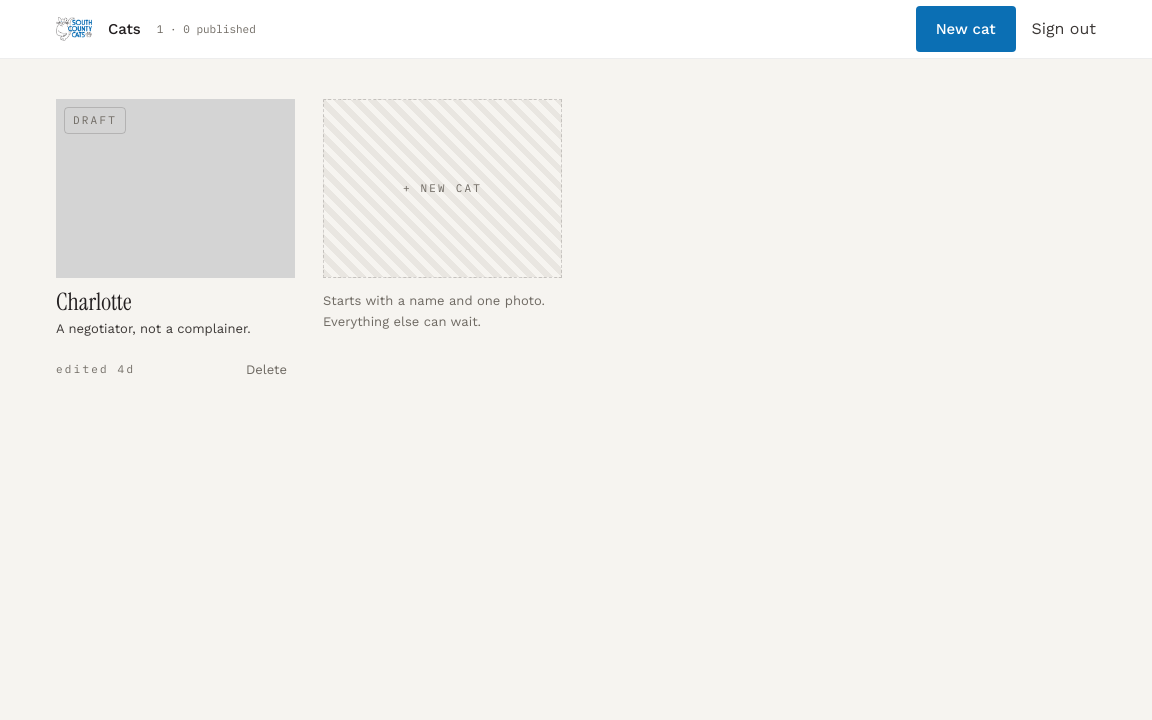
Test case: ProfileList › Delete asks first, naming the cat; Escape keeps it and returns focus
The width and height of the screenshot is (1152, 720).
Click the button with aria-label "Delete Charlotte": (266,369) [238,347,295,391]
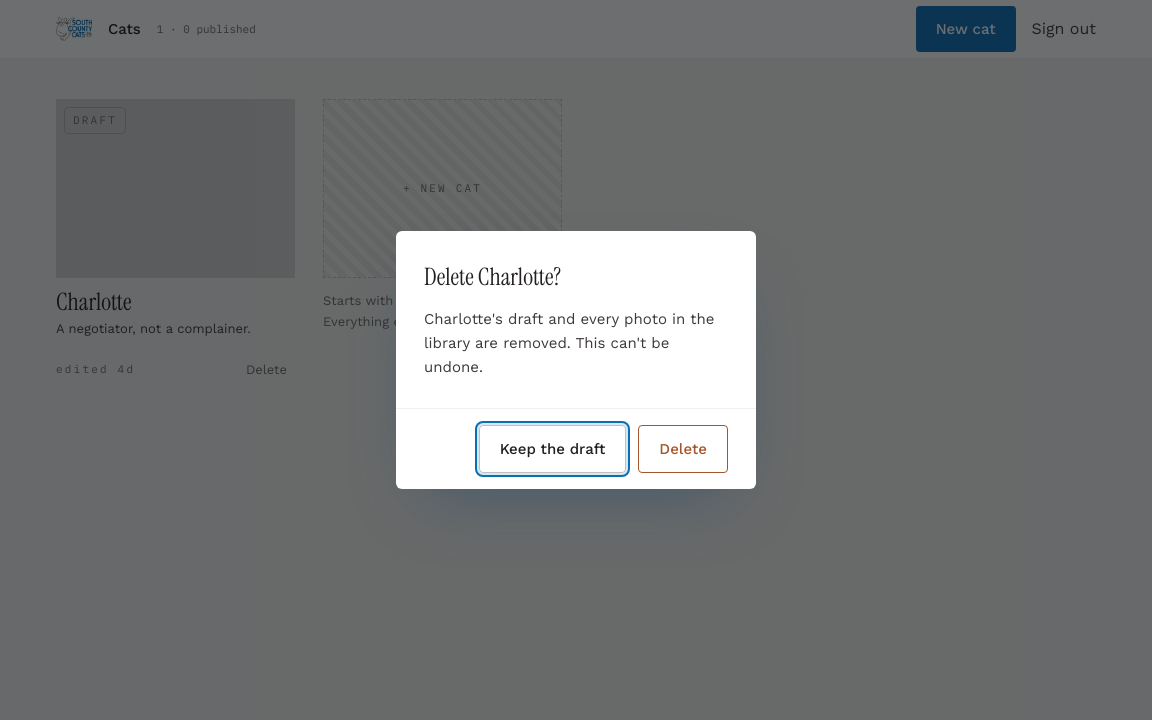
Press Escape
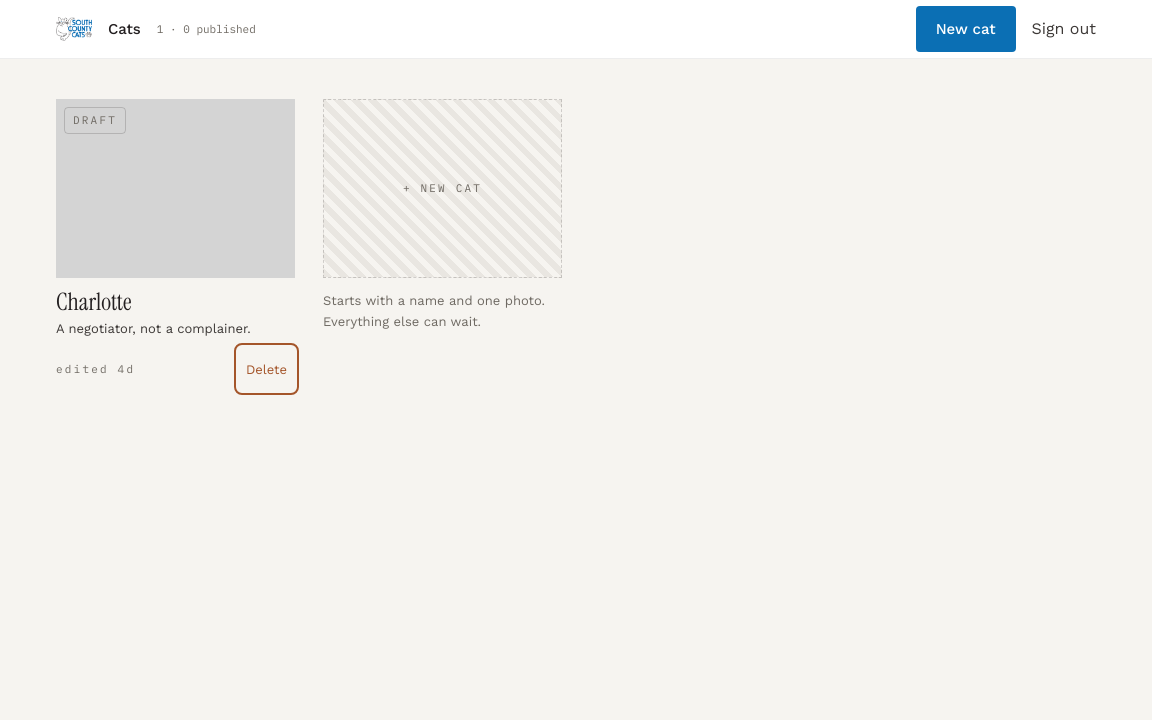
Result: the dialog is gone
